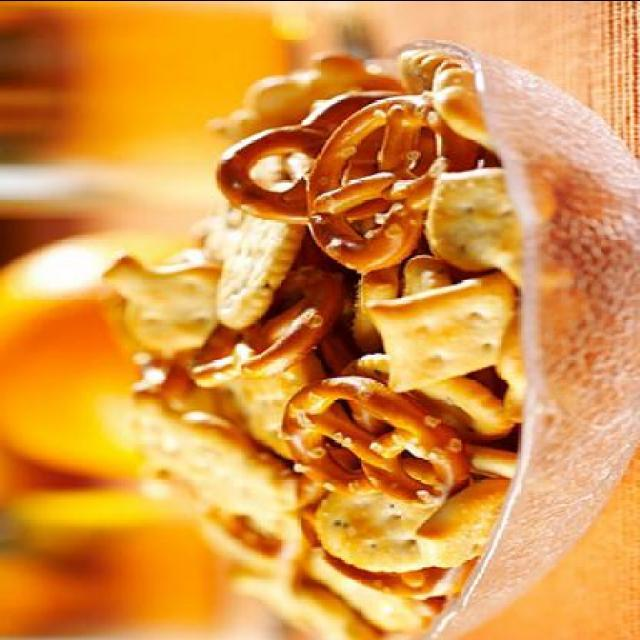Salatini packaged: (113, 34, 541, 616)
